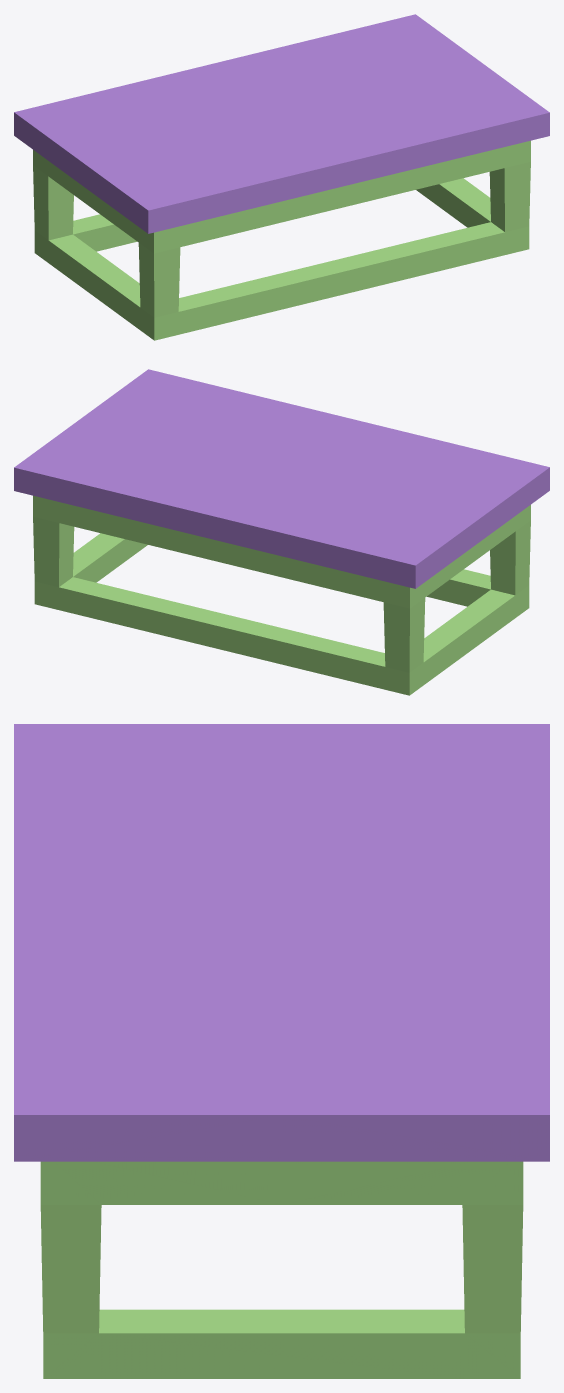
File: CoffeeTable2.glb
3 views of the same model, one above another, from view 1: azimuth 30°, elevation 25°; view 2: azimuth 150°, elevation 25°; view 3: azimuth 270°, elevation 25° (orthographic). The views are drawn at different scales.
Visible parts, largest first — view 1: Coffee_Table_2_1, Coffee_Table_2_0; view 2: Coffee_Table_2_1, Coffee_Table_2_0; view 3: Coffee_Table_2_1, Coffee_Table_2_0.
Boxes of the visible parts, bbox=[...] form: Coffee_Table_2_1: bbox=[14, 14, 549, 233]; Coffee_Table_2_0: bbox=[33, 140, 530, 340]; Coffee_Table_2_1: bbox=[14, 369, 549, 588]; Coffee_Table_2_0: bbox=[33, 495, 530, 695]; Coffee_Table_2_1: bbox=[14, 724, 549, 1161]; Coffee_Table_2_0: bbox=[40, 1161, 523, 1378].
Bounding box in the file's own units: 1.02 × 0.3355 × 0.5888.
